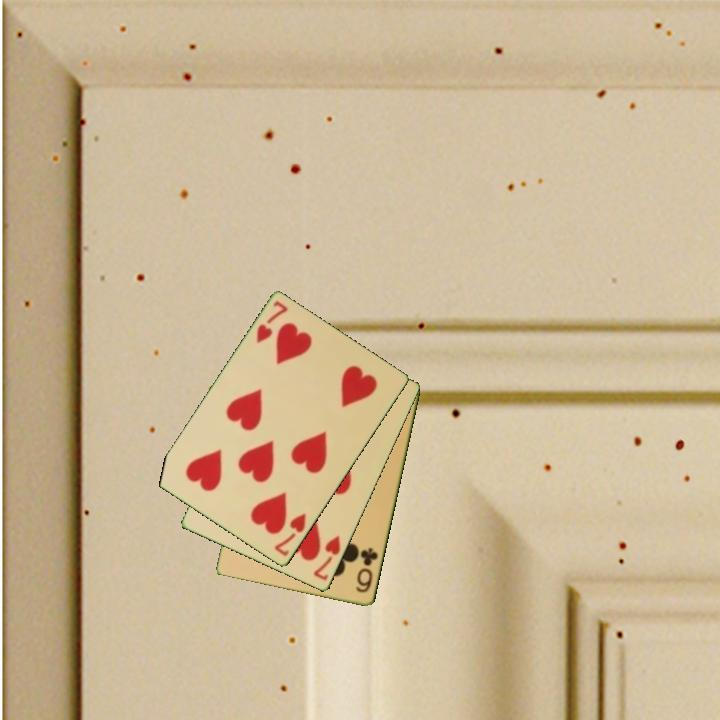6c: (353, 545, 381, 596)
7h: (271, 510, 309, 560), (253, 297, 291, 346), (310, 532, 344, 584)
